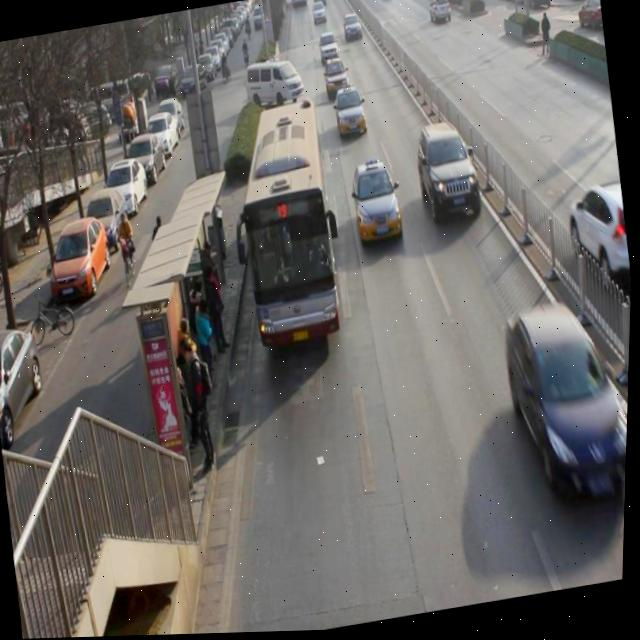car: (504, 301, 633, 508), (413, 122, 486, 232), (566, 186, 635, 294), (333, 86, 371, 140), (263, 53, 291, 107), (322, 61, 353, 102), (316, 32, 341, 70), (427, 0, 455, 30), (341, 13, 365, 44), (309, 0, 331, 27)
truck: (350, 162, 407, 248), (255, 58, 307, 113)
van: (226, 97, 350, 350)
